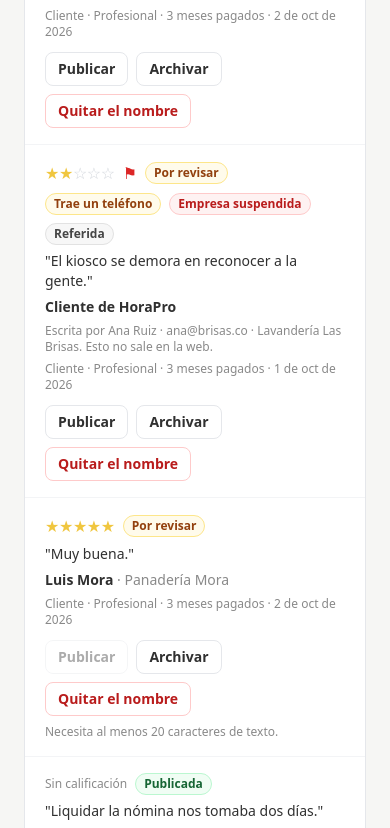
Test: AdminResenas › una anónima firma como «Cliente de HoraPro» y aquí, solo aquí, dice quién la escribió
(page scrolled)
expect the text "Cliente de HoraPro" is shown: met, box left=45, top=297, right=176, bottom=316
expect the text "Ana Ruiz · ana@brisas.co · Lavandería Las Brisas" is shown: met, box left=45, top=322, right=341, bottom=355
En la vista previa, que es la tarjeta de la landing, el nombre no aparece.
Click the button "Publicar" below "Trae un teléfono".
click(87, 422)  # box left=45, top=405, right=128, bottom=439
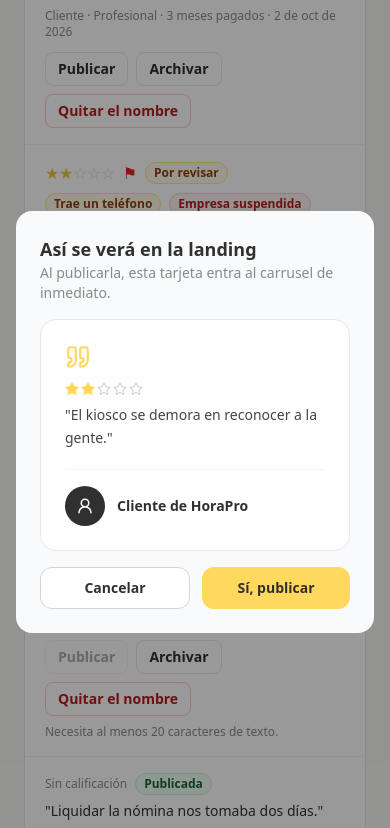
expect the text "Cliente de HoraPro" is shown: met, box left=117, top=496, right=248, bottom=516
